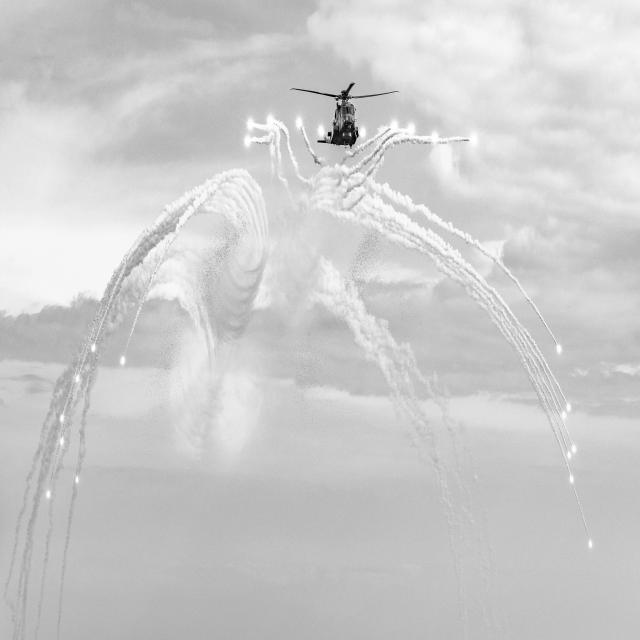helicopter: (292, 64, 402, 152)
